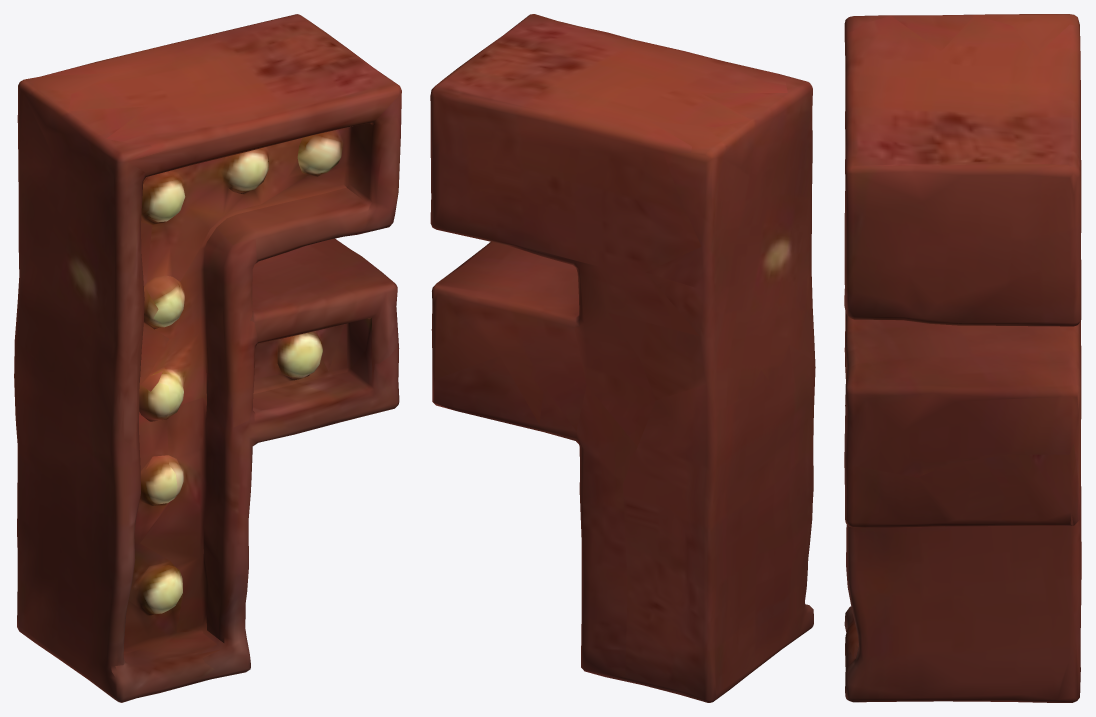
File: letter_f_idle.glb
3 renders of one model, left to right at view 1: azimuth 30°, elevation 25°; view 2: azimuth 150°, elevation 25°; view 3: azimuth 270°, elevation 25°, orthographic. The views are drawn at different scales.
Visible parts, largest first — view 1: letter_f; view 2: letter_f; view 3: letter_f.
Part boxes in pixels (x1,y1,x2,y2): letter_f: (14,14,401,702); letter_f: (430,14,815,702); letter_f: (844,14,1081,702).
Size of the model in its own units: 0.534 by 0.9787 by 0.3377.
1 material, 1 textured.
